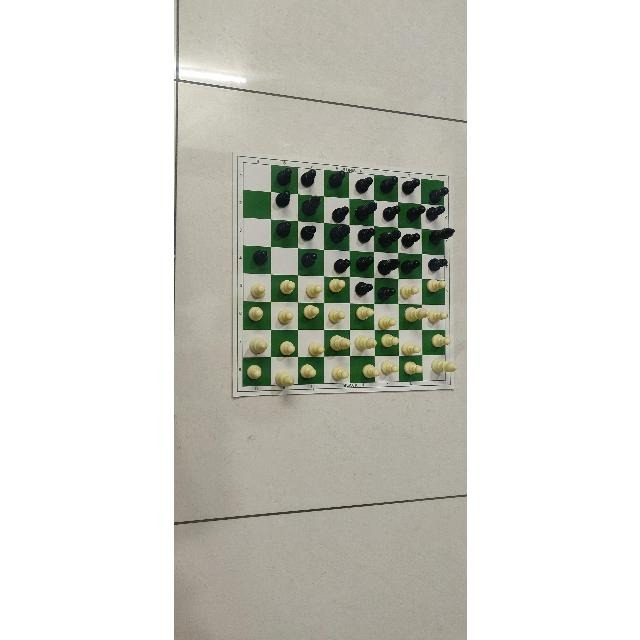black-bishop: (425, 224, 458, 248), (376, 226, 401, 251), (352, 199, 377, 223), (298, 193, 322, 217), (323, 225, 350, 246), (375, 253, 399, 276)
black-pawn: (246, 244, 272, 267), (270, 219, 294, 243), (375, 173, 399, 197), (298, 249, 322, 272), (374, 279, 397, 302), (398, 174, 420, 198), (298, 165, 320, 189), (425, 183, 451, 203), (298, 219, 320, 242), (424, 255, 452, 273), (352, 171, 372, 195), (272, 163, 292, 186), (325, 168, 345, 191), (382, 202, 402, 225), (426, 204, 450, 223), (327, 204, 348, 224), (405, 203, 425, 223), (354, 253, 374, 273), (355, 225, 374, 246), (332, 256, 351, 276), (352, 279, 372, 298), (400, 256, 420, 275), (401, 229, 420, 249), (273, 189, 291, 209)
white-bishop: (272, 367, 296, 394), (428, 356, 457, 375), (353, 332, 377, 354), (247, 335, 269, 358), (402, 305, 428, 324), (326, 332, 352, 351)
white-pawn: (325, 306, 347, 329), (401, 358, 423, 381), (427, 332, 454, 350), (275, 336, 297, 358), (351, 304, 374, 325), (401, 334, 421, 358), (243, 361, 263, 384), (374, 311, 397, 331), (375, 358, 399, 377), (304, 337, 326, 357), (425, 278, 447, 298), (274, 307, 295, 327), (300, 302, 320, 323), (359, 362, 379, 383), (275, 279, 298, 297), (427, 308, 450, 326), (298, 363, 322, 380), (328, 365, 350, 383), (398, 282, 418, 301), (304, 279, 322, 300), (378, 332, 399, 349), (248, 280, 266, 299), (328, 277, 347, 295), (244, 306, 263, 322)
